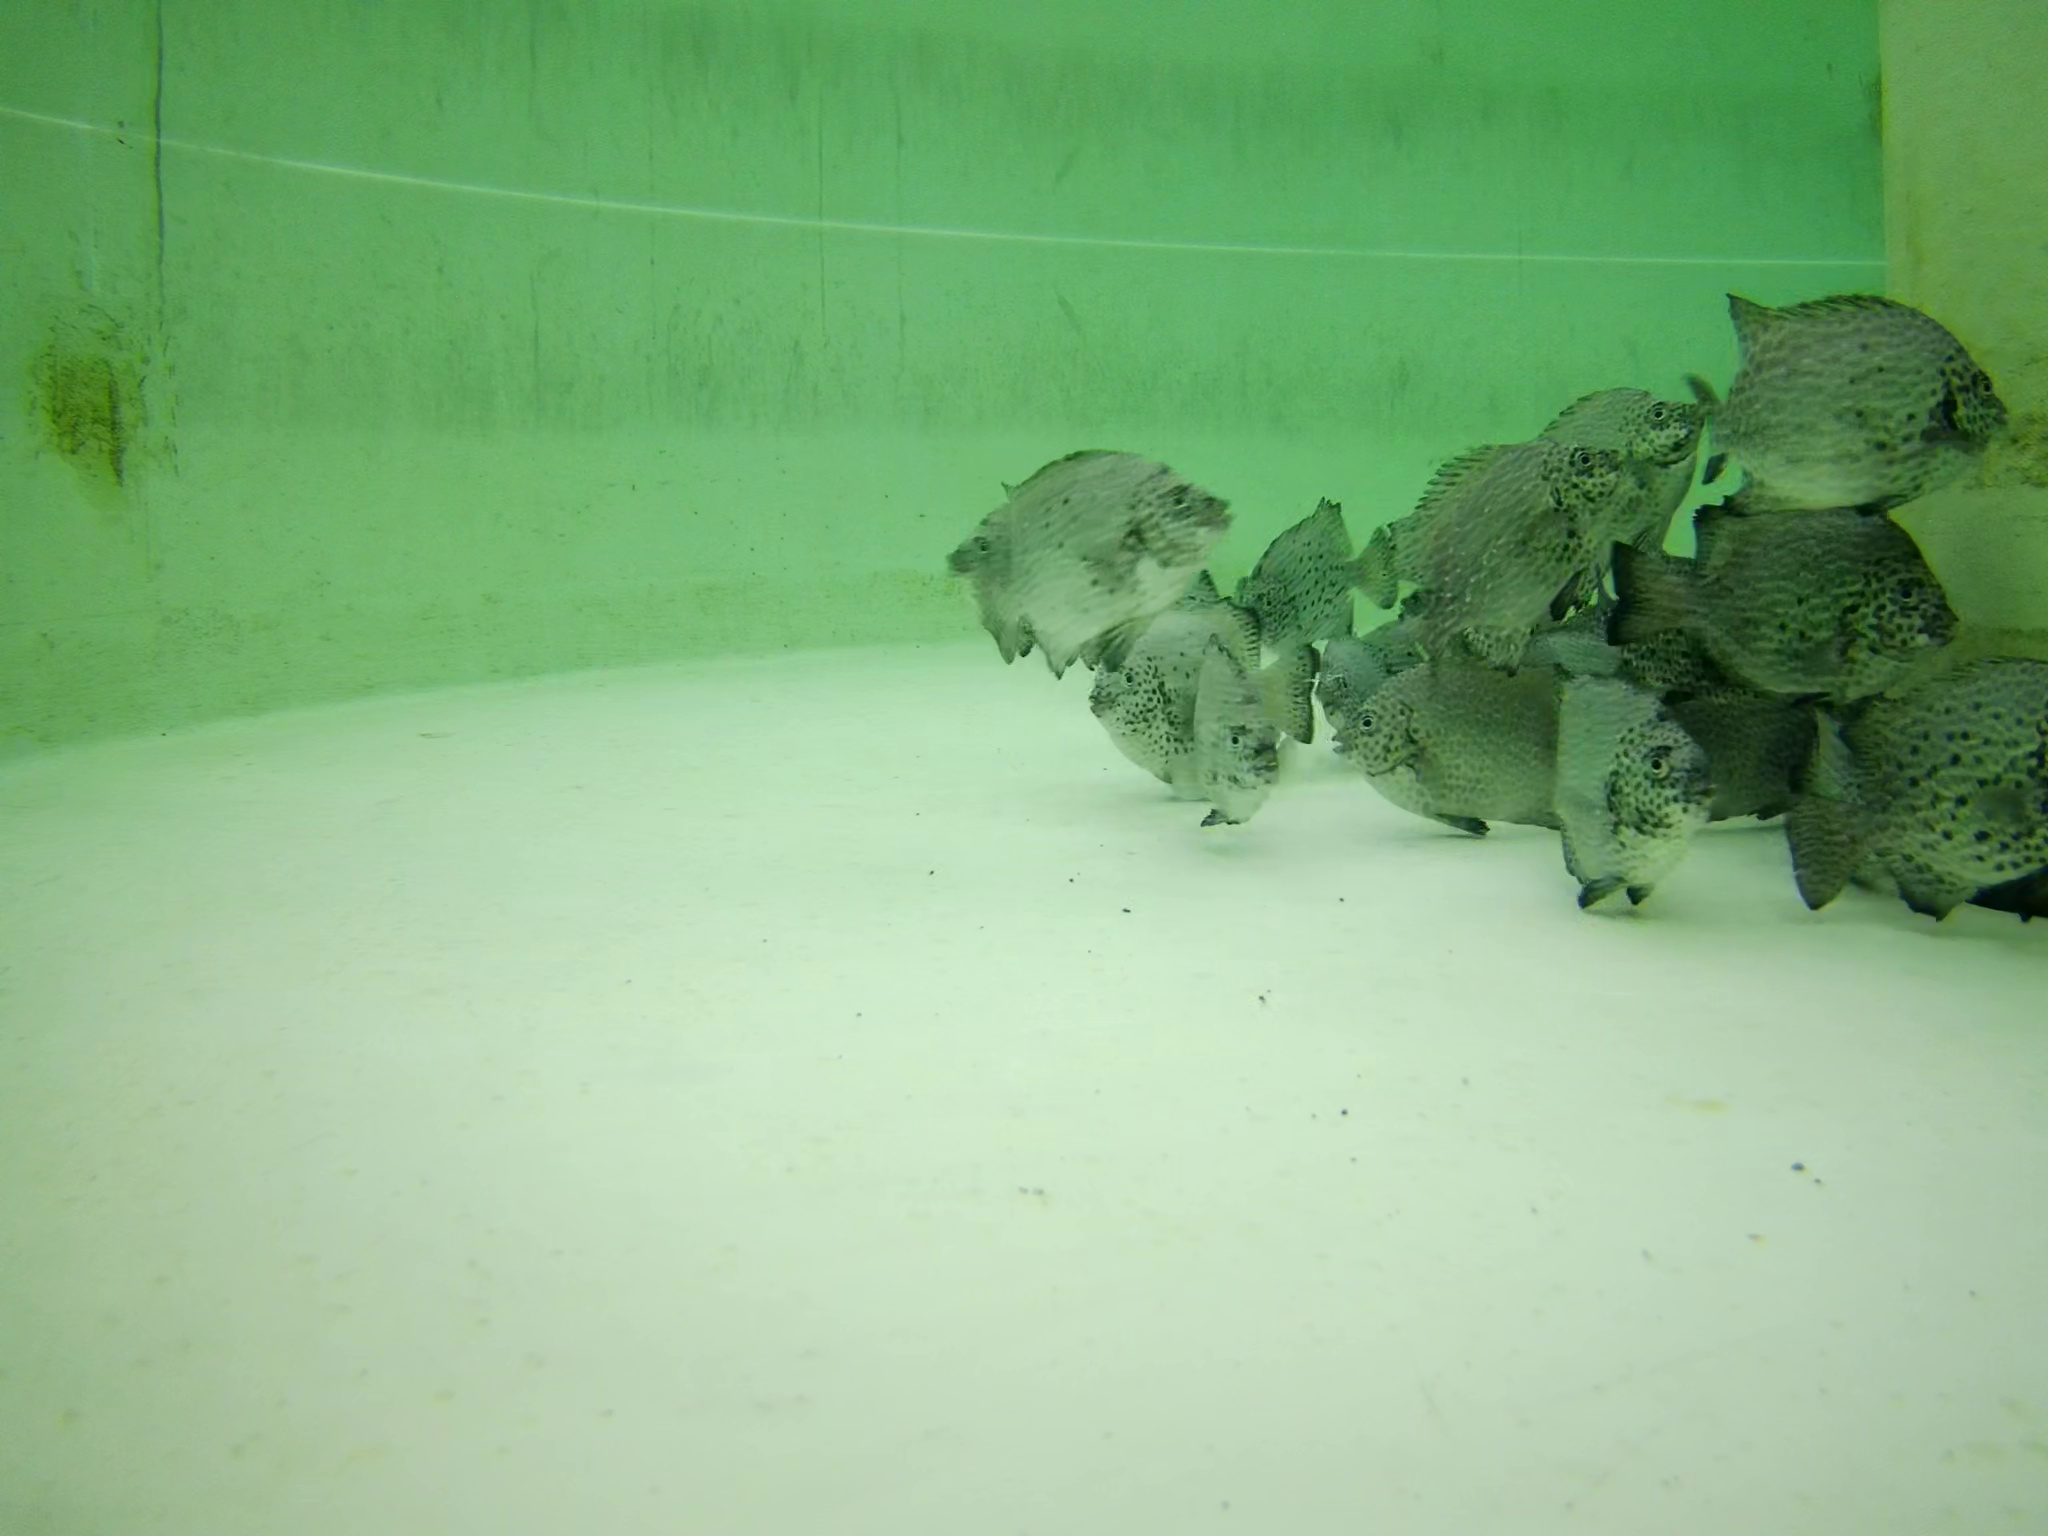fish: (1675, 287, 2009, 497), (1605, 505, 1964, 699), (1359, 442, 1629, 663), (1079, 578, 1314, 791), (985, 444, 1227, 639), (1814, 679, 2048, 866), (1342, 645, 1561, 837), (1784, 766, 2048, 910), (1546, 676, 1696, 900), (1516, 381, 1696, 565), (1214, 494, 1398, 634), (1669, 645, 1813, 821), (940, 507, 1069, 670), (1190, 634, 1285, 833), (1313, 618, 1435, 752)
